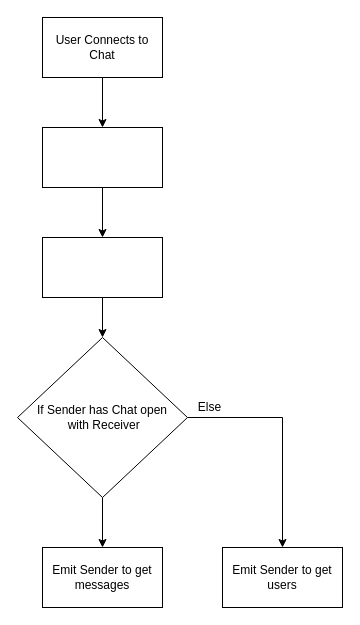
Image size: 360x625. Some labels were removed from this diagram. The shapes that lost their labels are listed below. From the top down, each one's centre as x and y in pixels, then its label:
the point at 102,157: User Opens a Chat with Another User
the point at 102,267: Set Unseen Messages to Seen
